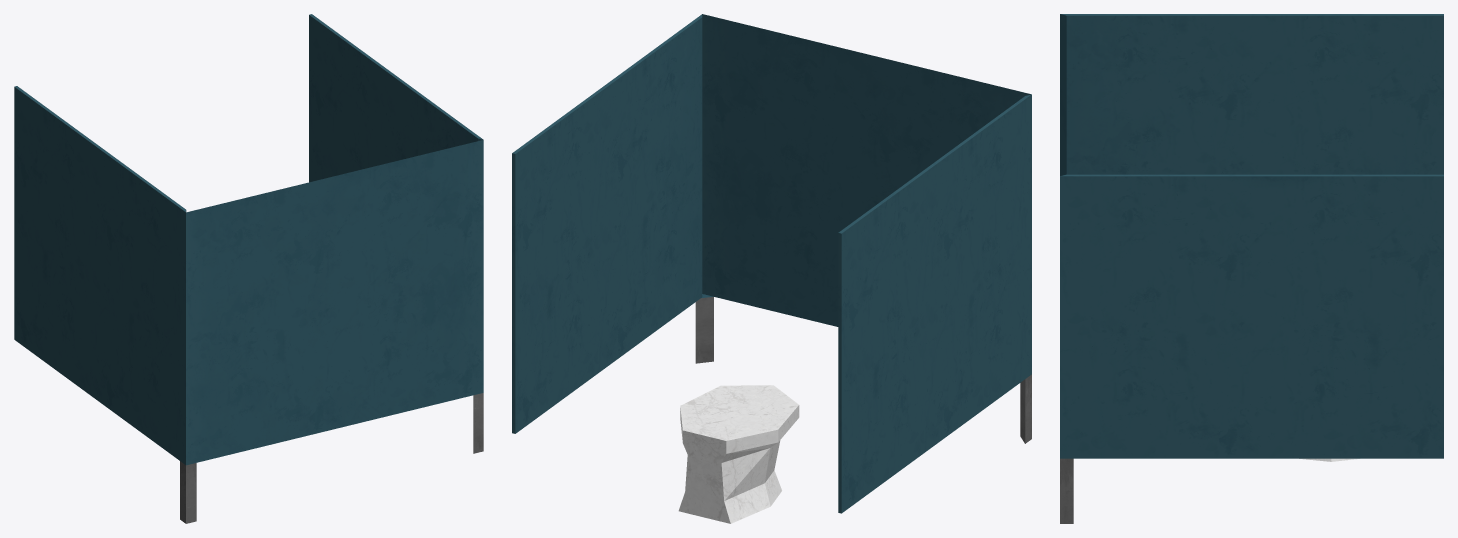
Rendered from toilette.fbx.
3 views of the same model, side by side, from view 1: azimuth 30°, elevation 25°; view 2: azimuth 150°, elevation 25°; view 3: azimuth 270°, elevation 25° (orthographic). The views are drawn at different scales.
Parts seen in each view (by area): view 1: cabine toilette; view 2: cabine toilette; view 3: cabine toilette.
Boxes of the visible parts, x1,y1,x2,y2 form: cabine toilette: (14,14,483,523); cabine toilette: (512,14,1031,523); cabine toilette: (1060,14,1443,523).
Size of the model in its own units: 242 by 242 by 242.
